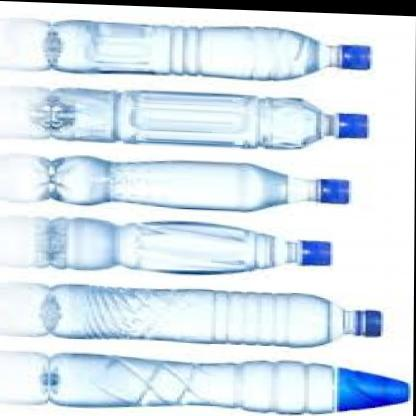Plastic: (36, 346, 414, 416), (32, 276, 388, 349), (39, 12, 381, 86), (29, 82, 384, 152), (37, 148, 377, 216), (38, 212, 352, 278)
